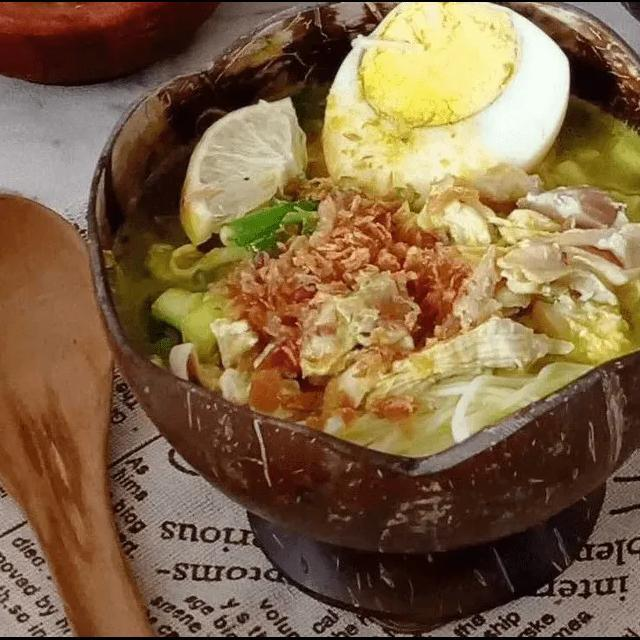Soto: (128, 51, 616, 424)
